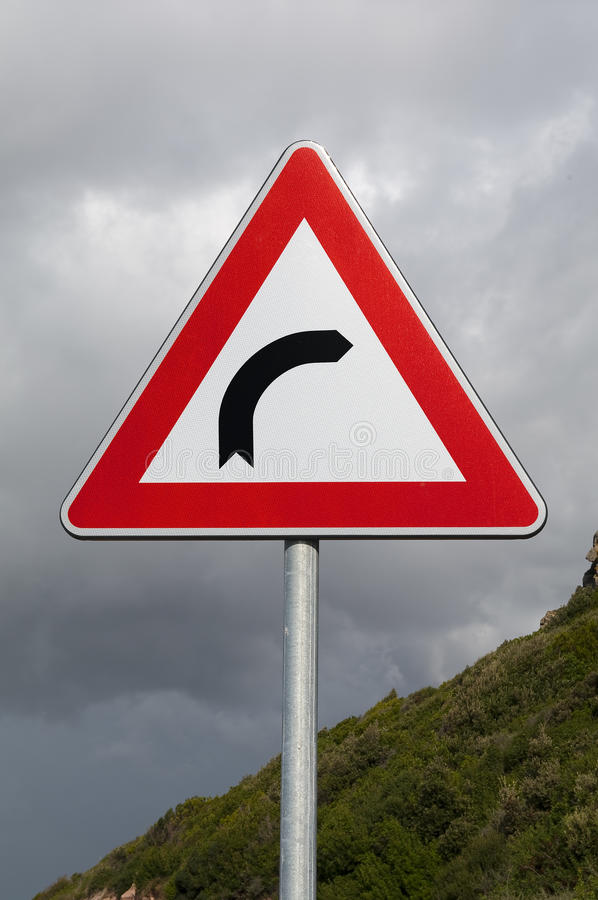Bend_to_right: (56, 139, 551, 544)
